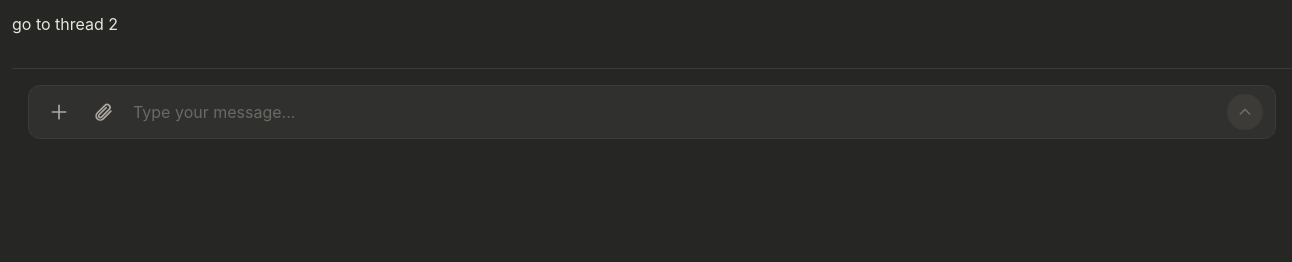
Test: ChatPage - state reset on thread change › clears a failed-send error banner after navigating to a different thread
The width and height of the screenshot is (1292, 262).
Step 1. Type "hello" into the text box with placeholder "Type your message..." → (674,112), box x1=129 y1=94 x2=1219 y2=130
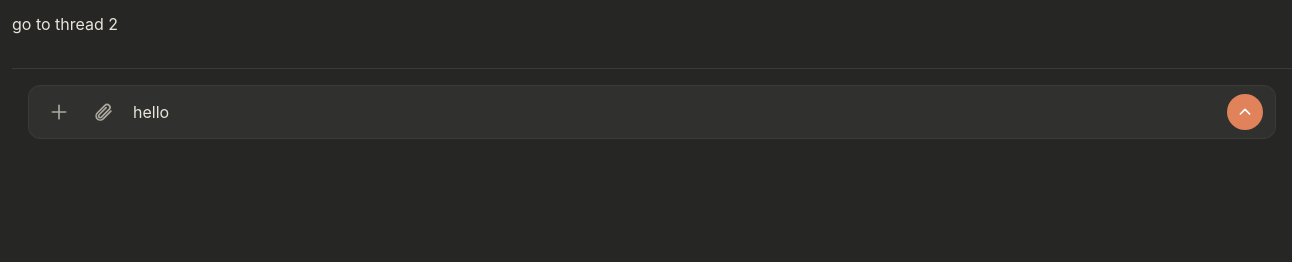
Step 2. Press Enter in the text box with placeholder "Type your message...", box x1=129 y1=94 x2=1219 y2=130
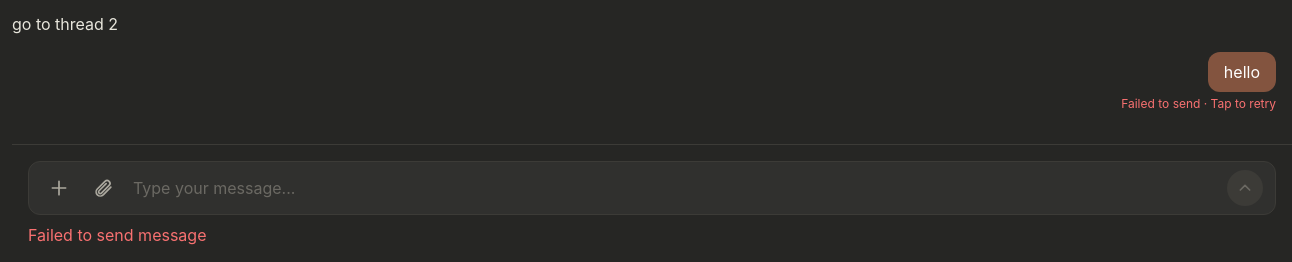
Expected: the text "Failed to send message" is shown, x1=28 y1=225 x2=206 y2=245
Step 3. Click the link "go to thread 2" → (65,24), box x1=12 y1=14 x2=118 y2=34
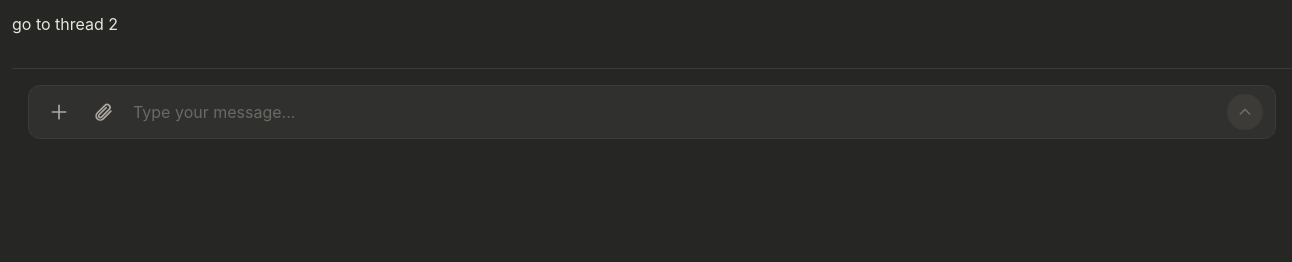
Expected: the text box with placeholder "Type your message..." is shown, x1=129 y1=94 x2=1219 y2=130
Expected: the text "Failed to send message" is gone
